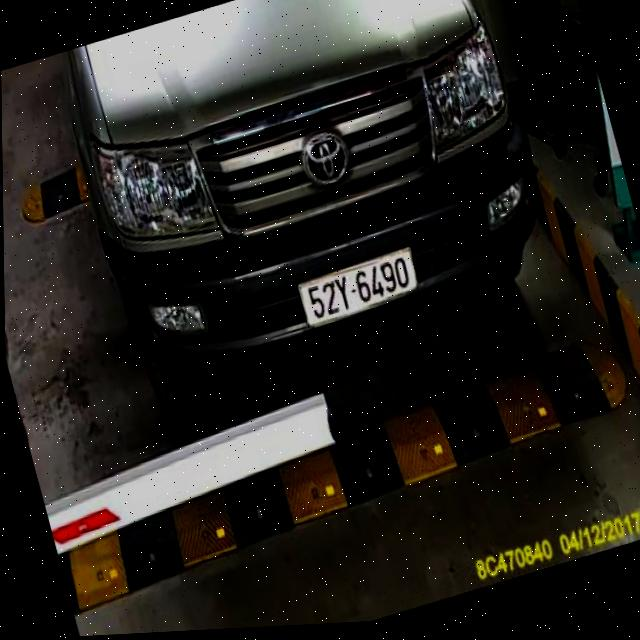car: (48, 0, 574, 428)
plate: (284, 241, 430, 333)
